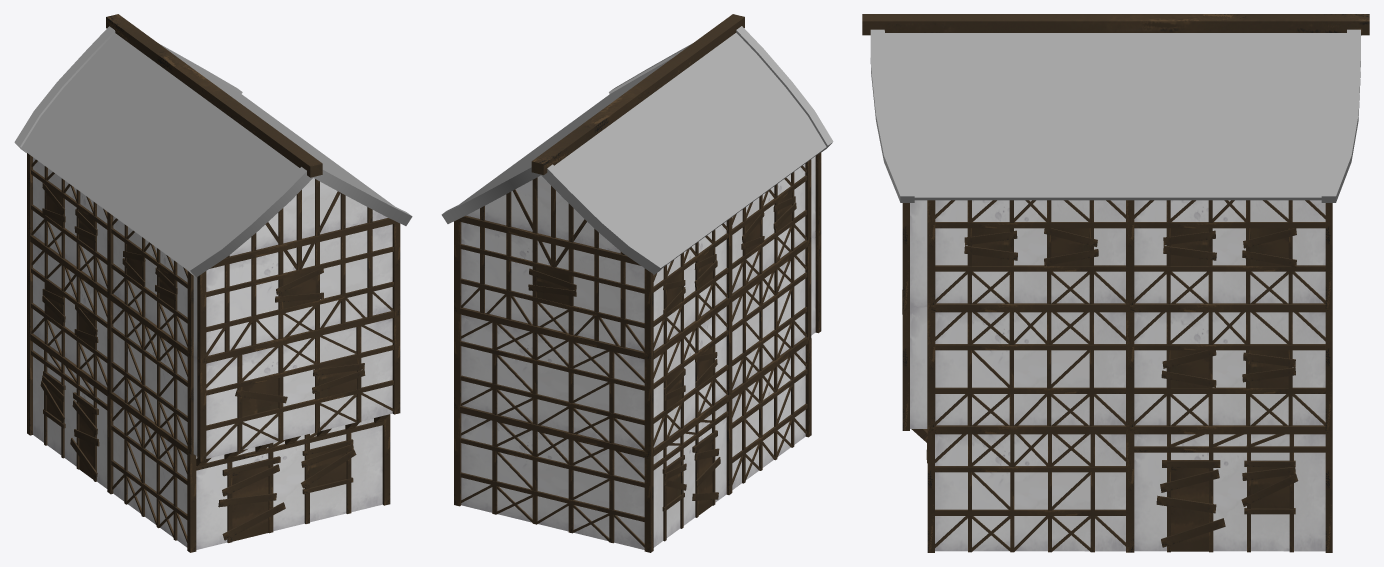
Rendered from SM_House_01.fbx.
3 renders of one model, left to right at view 1: azimuth 30°, elevation 25°; view 2: azimuth 150°, elevation 25°; view 3: azimuth 270°, elevation 25°, orthographic. The views are drawn at different scales.
Parts seen in each view (by area): view 1: SM_House_01; view 2: SM_House_01; view 3: SM_House_01.
Boxes of the visible parts, x1=… form: SM_House_01: x1=14, y1=14, x2=412, y2=552; SM_House_01: x1=441, y1=14, x2=833, y2=552; SM_House_01: x1=862, y1=14, x2=1369, y2=552.
Bounding box in the file's own units: 668 × 1097 × 1062.
